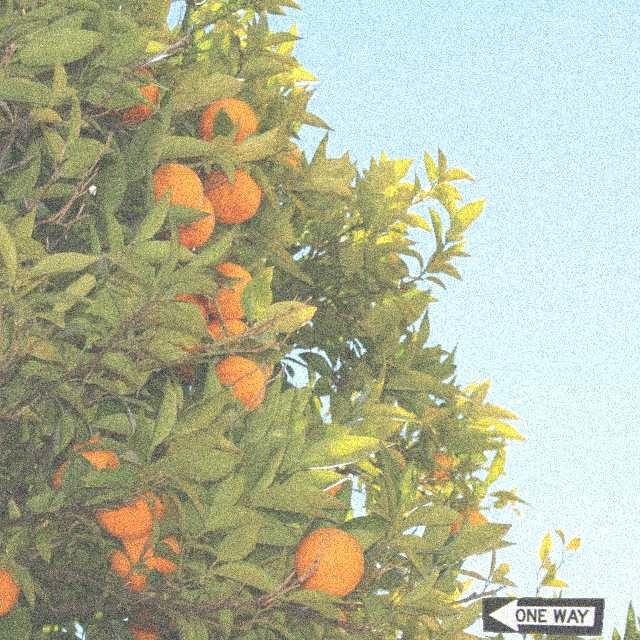ONE_WAY_ left: (481, 597, 605, 636)
